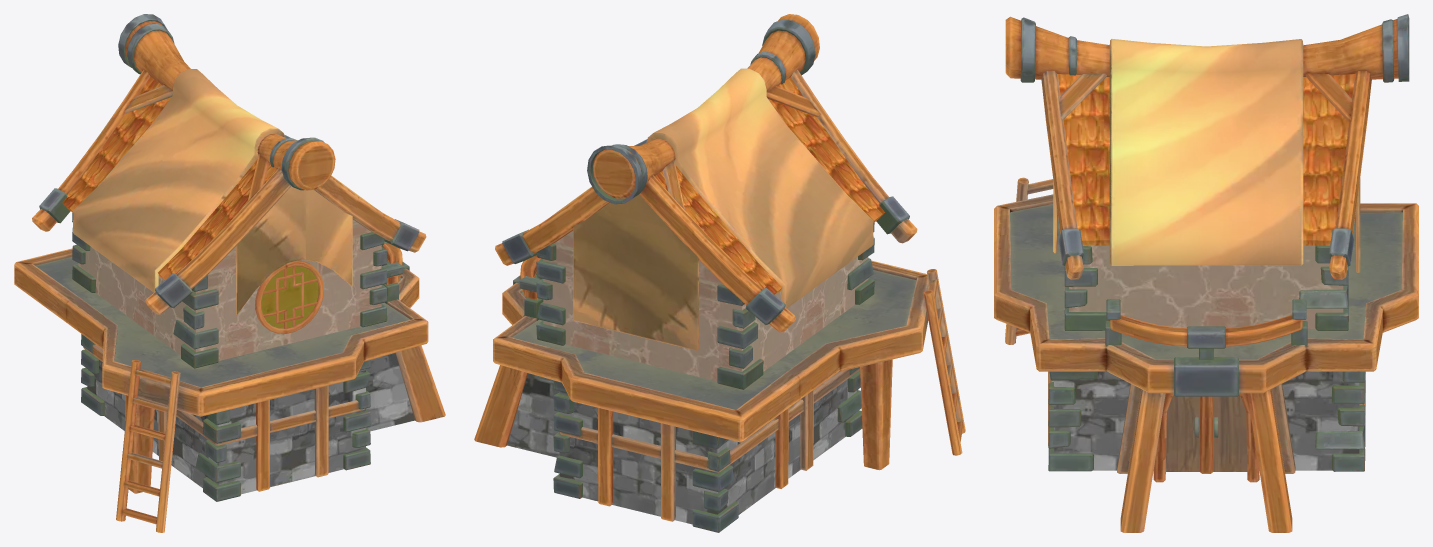
The model's file is BLD_Academy.glb.
3 renders of one model, left to right at view 1: azimuth 30°, elevation 25°; view 2: azimuth 150°, elevation 25°; view 3: azimuth 270°, elevation 25°, orthographic. The views are drawn at different scales.
Parts seen in each view (by area): view 1: Townhall_Townhall_0; view 2: Townhall_Townhall_0; view 3: Townhall_Townhall_0.
Boxes of the visible parts, x1=… form: Townhall_Townhall_0: x1=14, y1=14, x2=445, y2=532; Townhall_Townhall_0: x1=474, y1=14, x2=965, y2=532; Townhall_Townhall_0: x1=994, y1=14, x2=1418, y2=532.
Bounding box in the file's own units: 9.72 × 9.26 × 8.62.
1 material, 1 textured.
